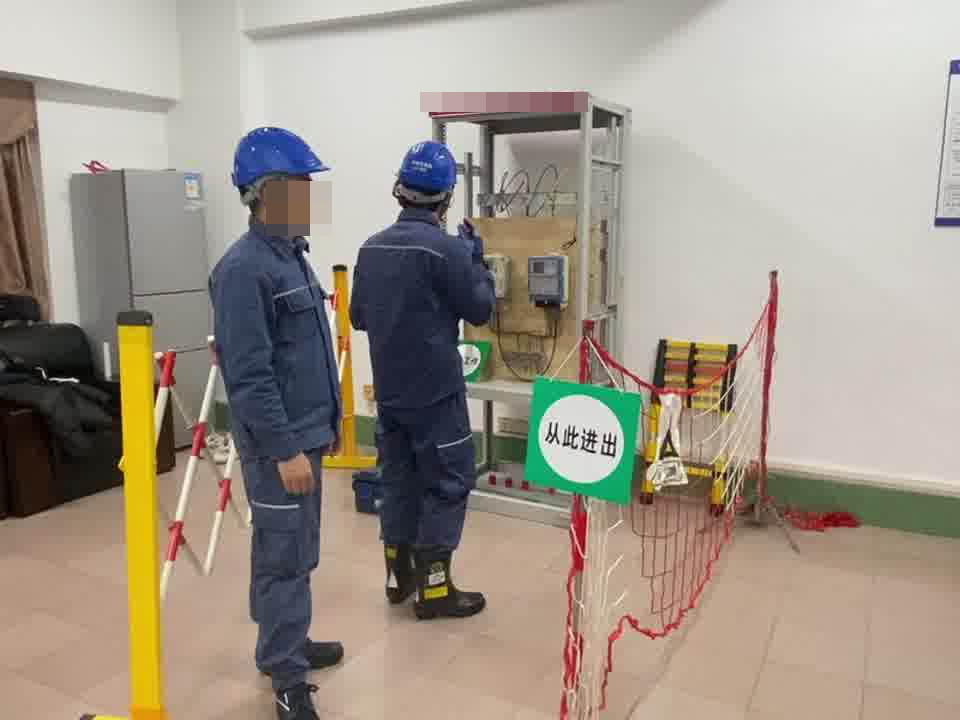downsuit: (237, 458, 327, 699), (374, 410, 475, 560)
glove: (456, 217, 487, 262)
halt: (231, 128, 326, 231), (396, 139, 461, 208)
hand: (276, 455, 317, 499)
inear: (246, 177, 292, 218)
intosign: (517, 373, 637, 508)
person: (201, 127, 345, 720), (349, 136, 500, 610)
shoe: (410, 549, 496, 619), (381, 540, 424, 599)
upsuit: (207, 230, 341, 461), (350, 212, 499, 403)
worksign: (454, 338, 489, 384)
